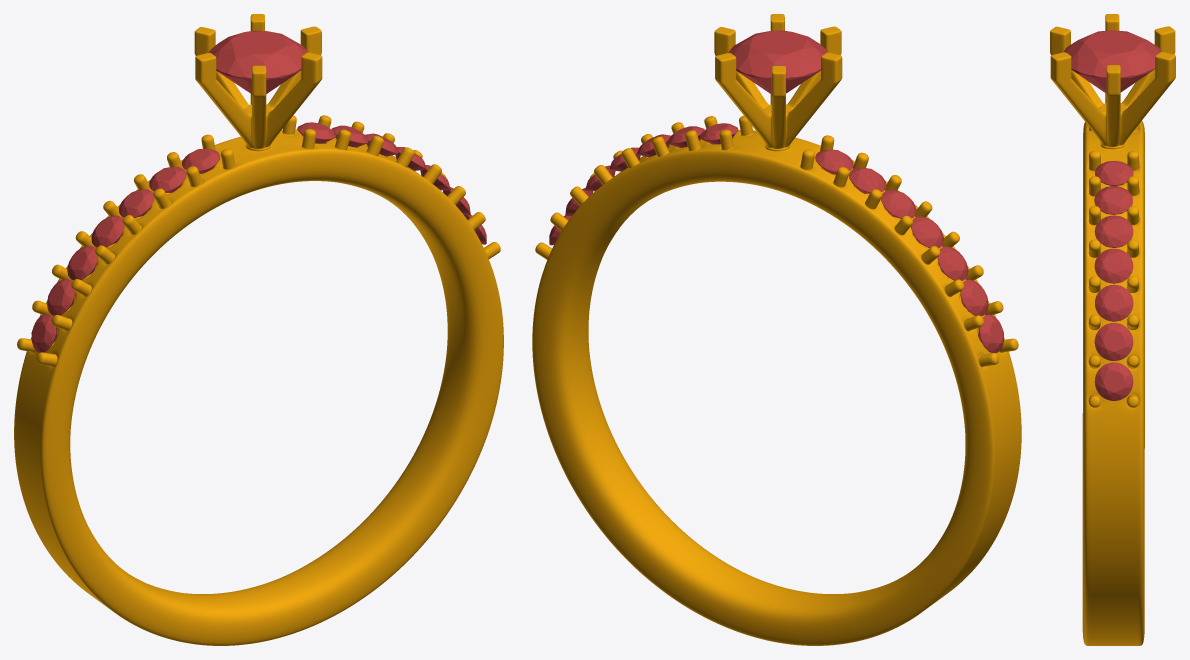
Rendered from ring.glb.
3 renders of one model, left to right at view 1: azimuth 30°, elevation 25°; view 2: azimuth 150°, elevation 25°; view 3: azimuth 270°, elevation 25°, orthographic.
Parts seen in each view (by area): view 1: Round_Round007; view 2: Round_Round007; view 3: Round_Round007.
Boxes of the visible parts, x1,y1,x2,y2 form: Round_Round007: [14, 14, 503, 645]; Round_Round007: [532, 14, 1021, 645]; Round_Round007: [1050, 14, 1175, 645].
Size of the model in its own units: 1.98 by 2.4 by 0.4745.
